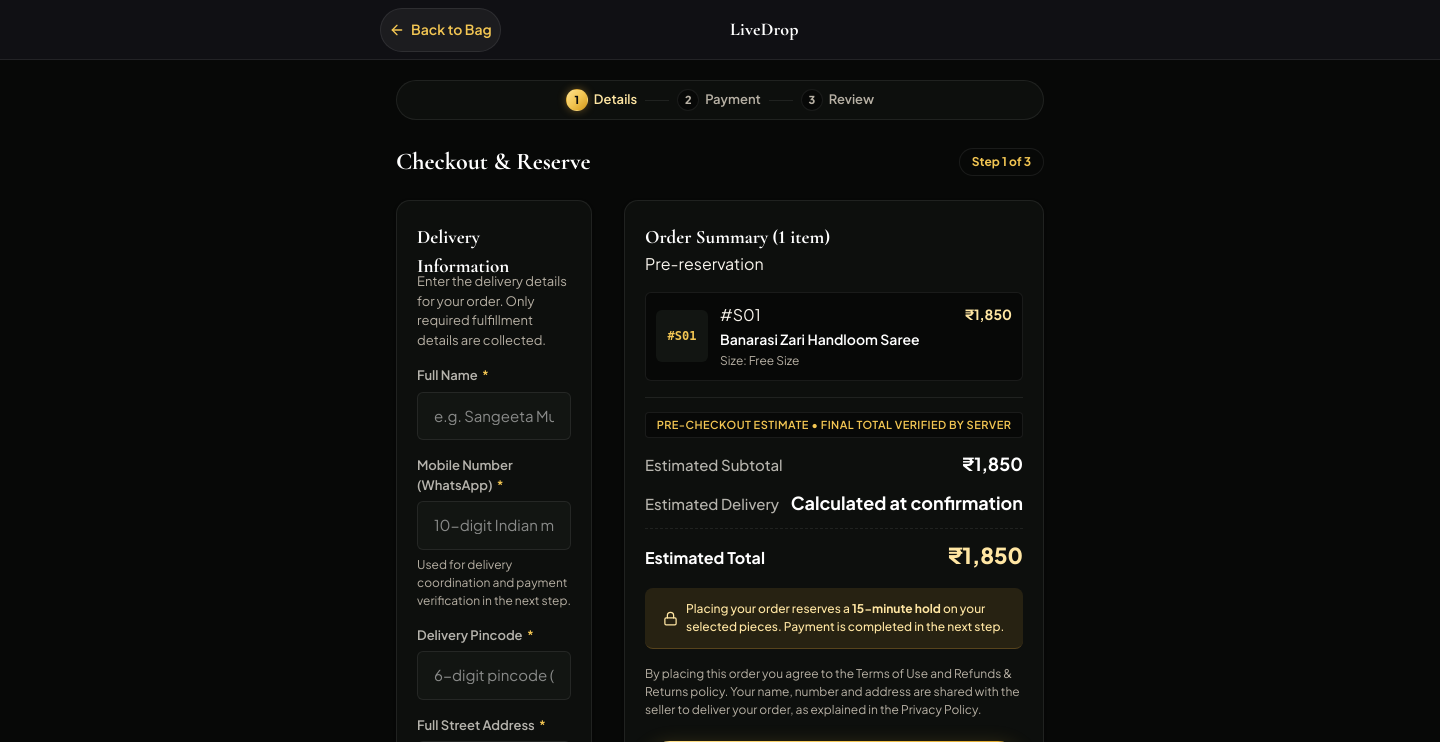
Test case: LiveDrop Phase 2: Checkout & Direct UPI Payment Presentation Gate › 2. Valid checkout form: accepts valid details and passes sanitized payload to createOrderWithReservation
Note: Fill valid form fields
Type "Sangeeta Mukherjee" into the field with test id "input-buyer-name" at [494, 416], box x1=417 y1=392 x2=571 y2=440
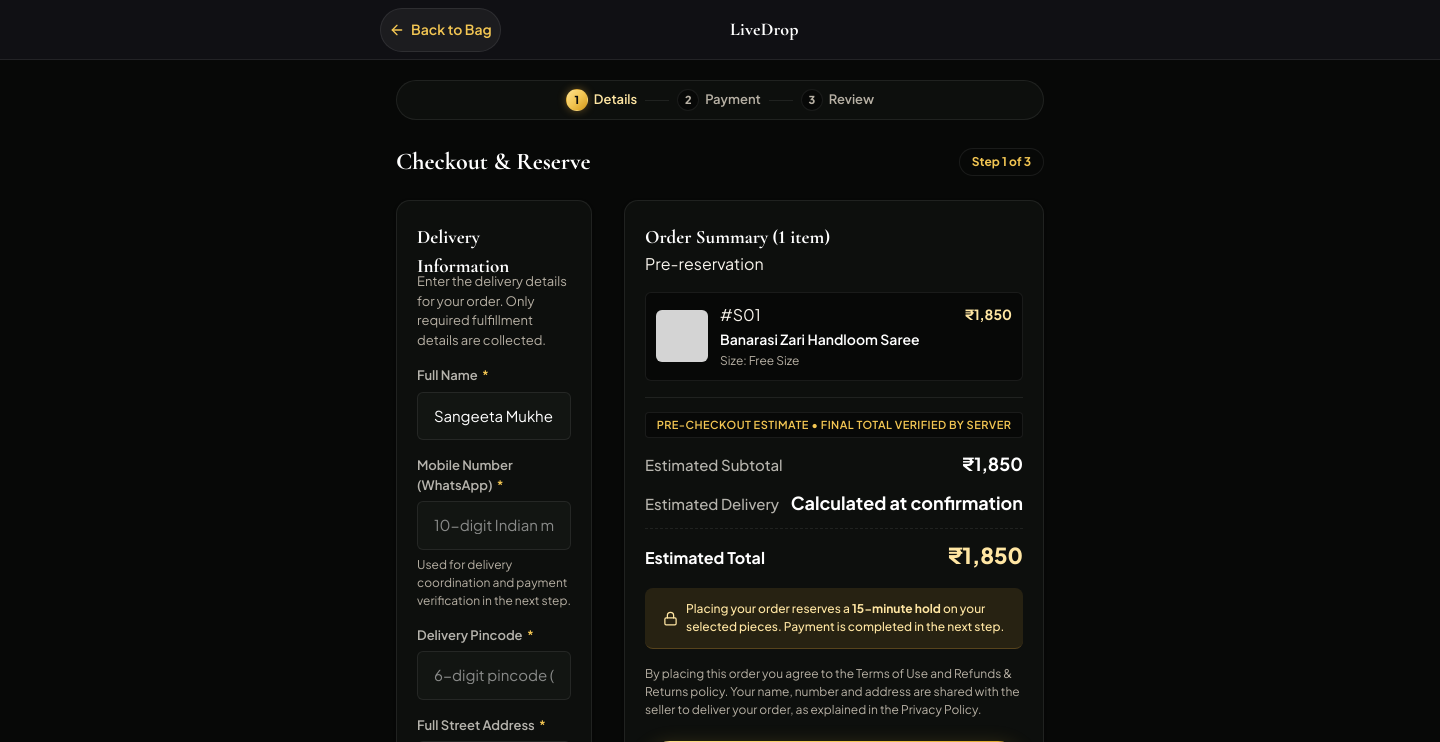
Type "9830123456" into the field with test id "input-buyer-phone" at [494, 525], box x1=417 y1=501 x2=571 y2=550
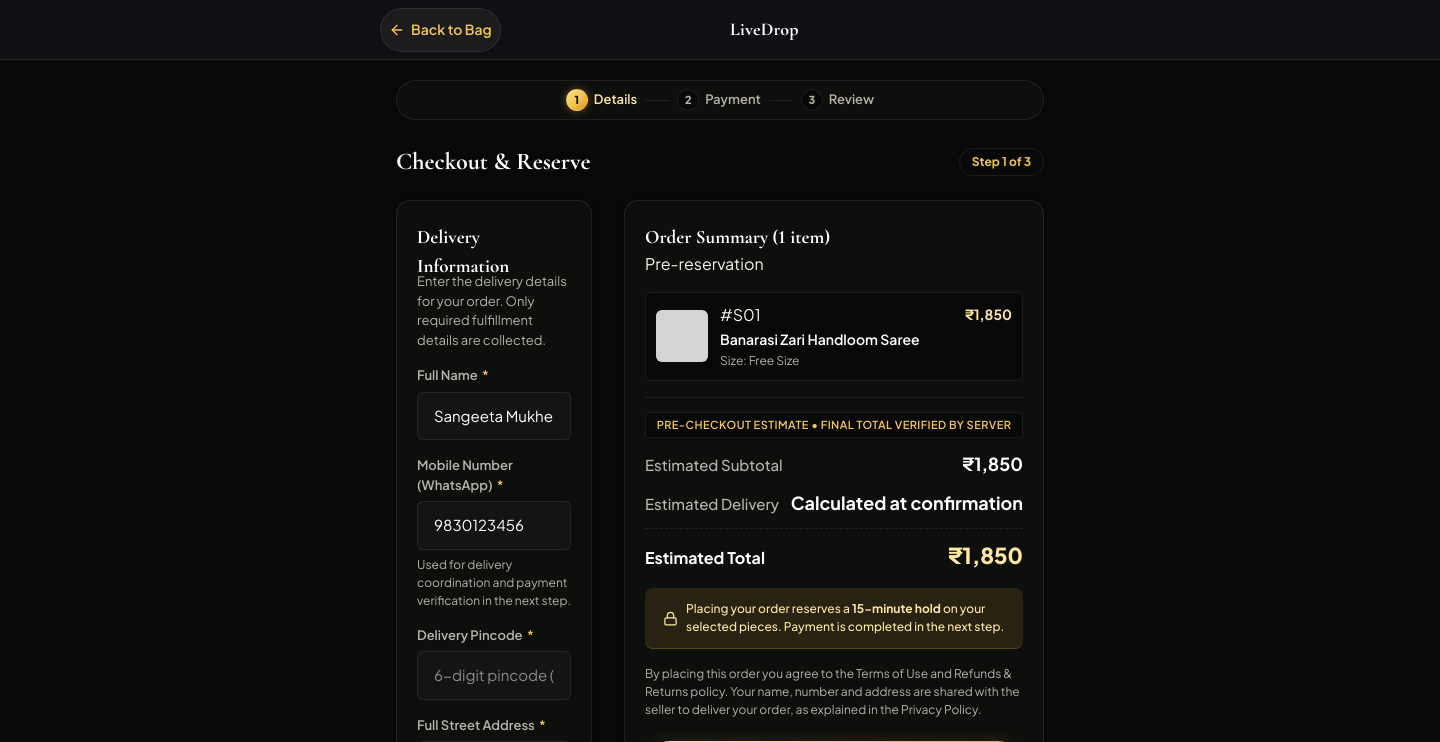
Type "700032" into the field with test id "input-pincode" at [494, 675], box x1=417 y1=651 x2=571 y2=700
(page scrolled)
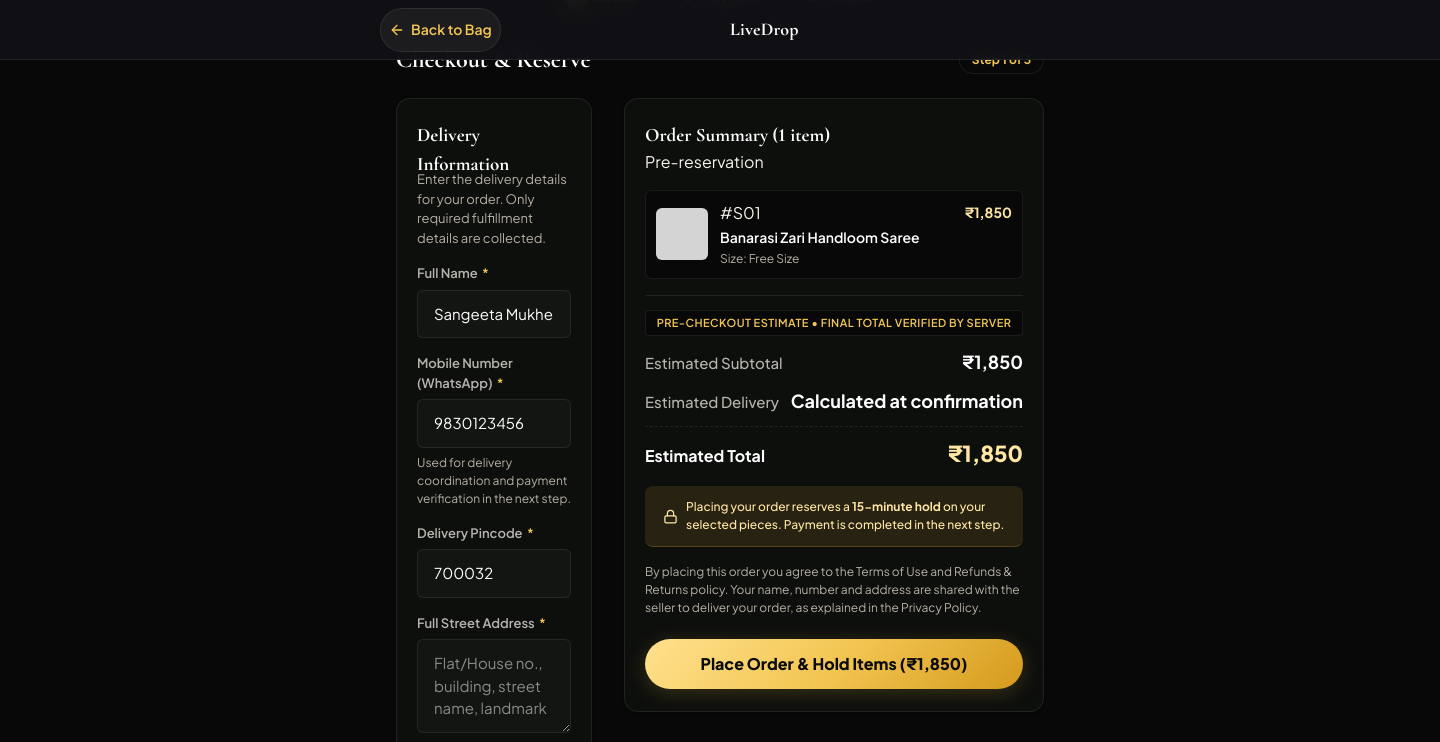
Type "Flat 4B, Greenview Apts, Jadavpur" into the text box with test id "input-shipping-address" at [494, 686], box x1=417 y1=639 x2=571 y2=732
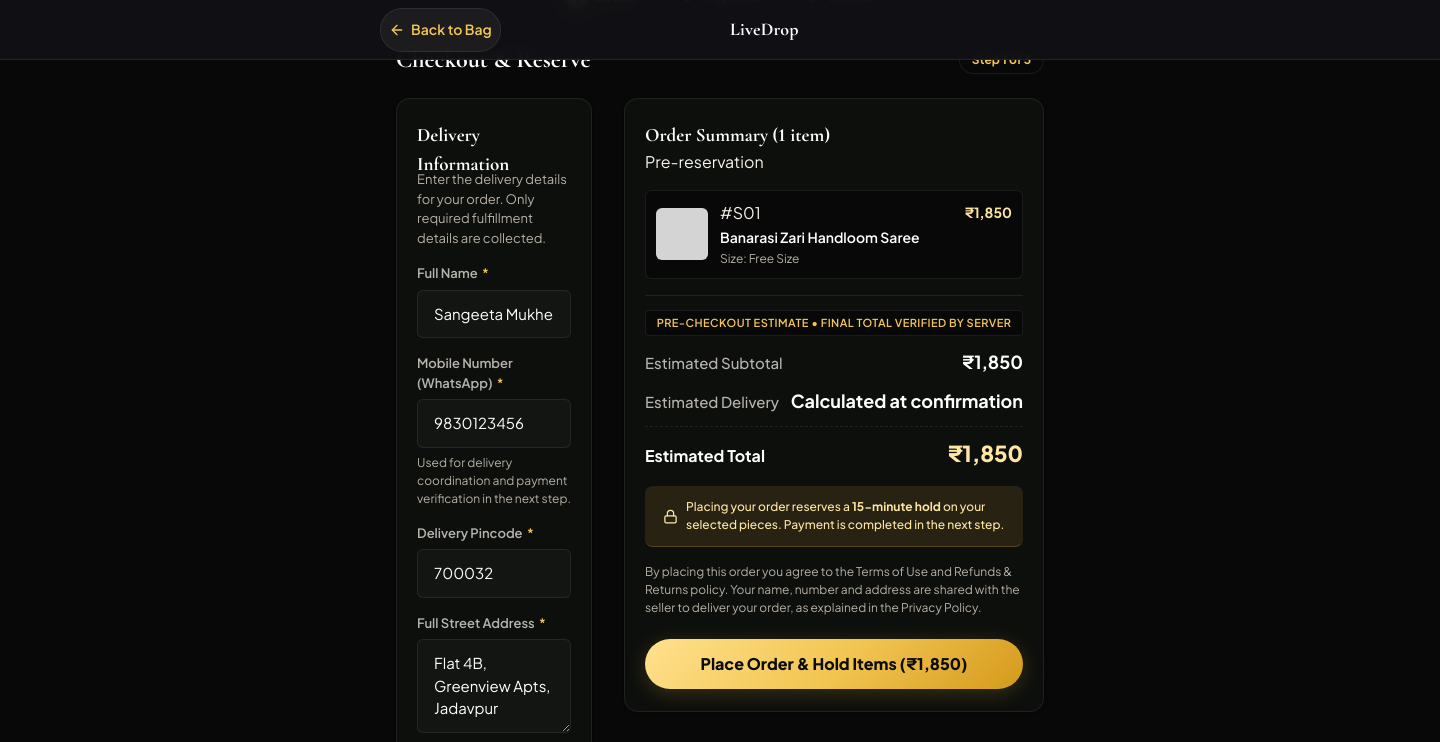
Click the button with test id "checkout-submit-btn" at [834, 664], box x1=645 y1=639 x2=1023 y2=689
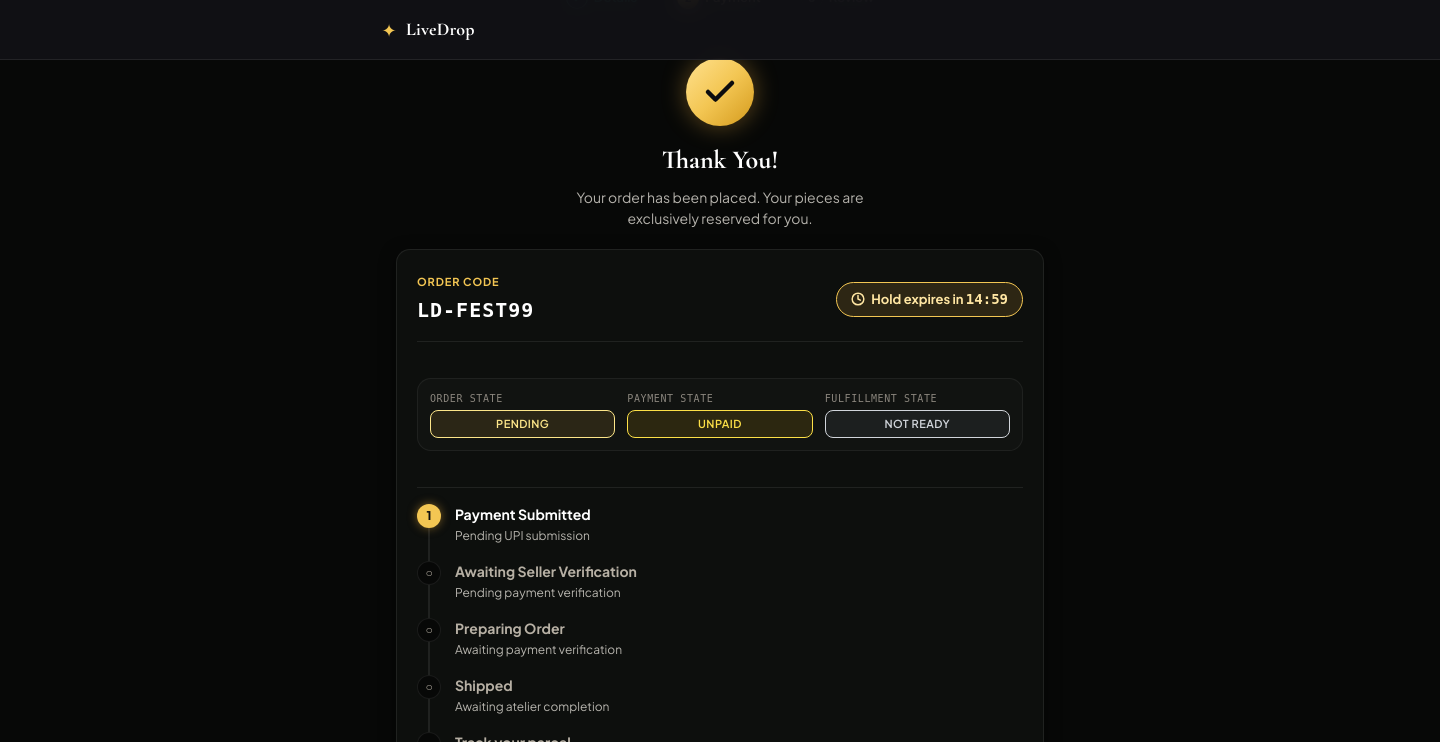
Expected: the text with test id "success-order-code" reads "LD-FEST99", x1=417 y1=298 x2=534 y2=322
